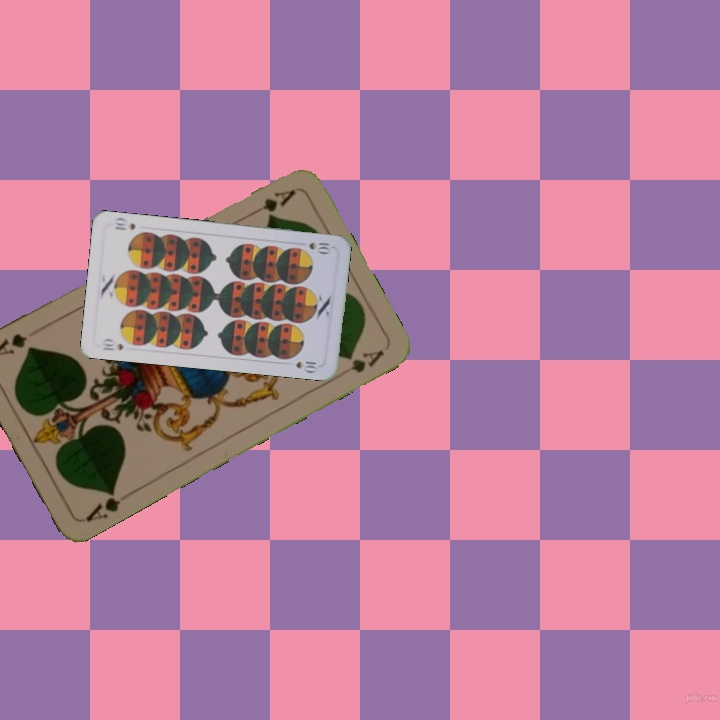GA: (243, 185, 299, 220), (81, 485, 123, 525)
S10: (99, 335, 126, 353), (305, 238, 332, 255)
